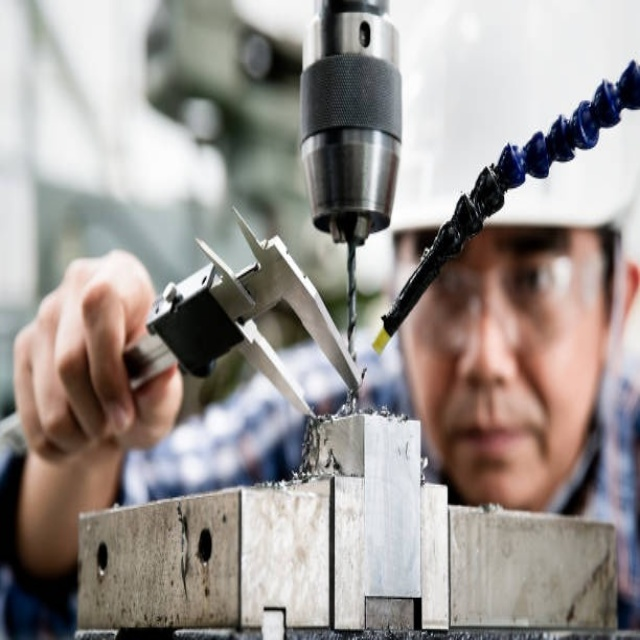Gafas: (403, 246, 612, 339)
Sin_guantes: (13, 247, 182, 467)
Sin_mascara: (444, 402, 543, 496)
